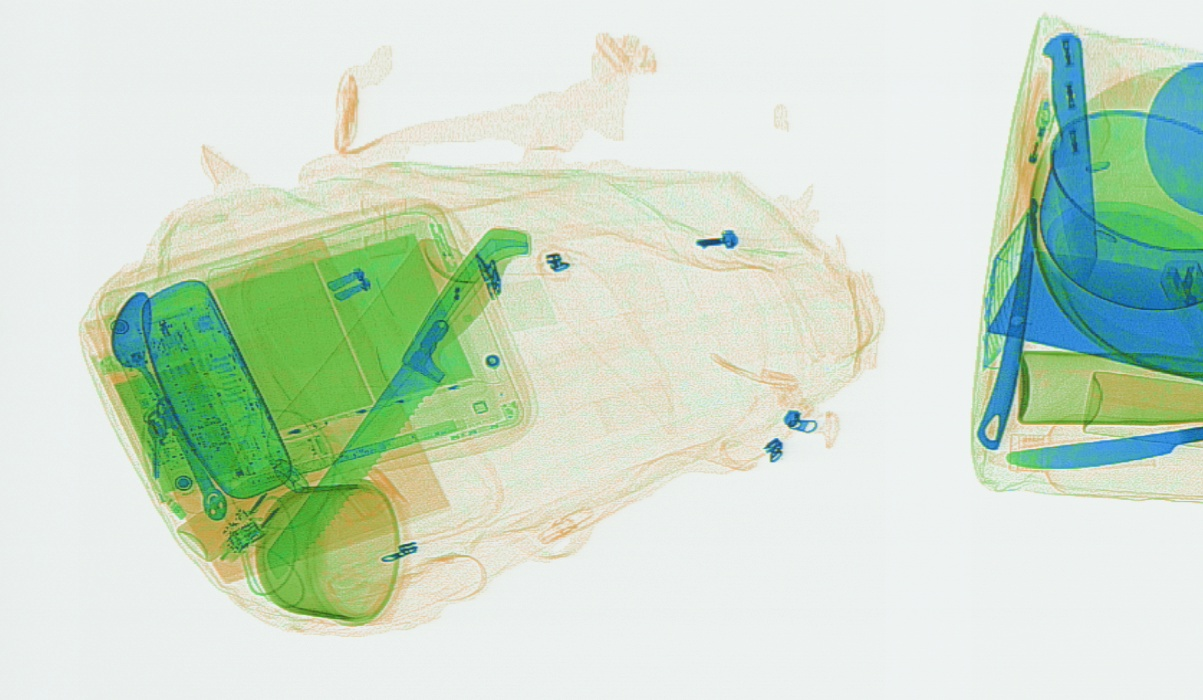knife: (268, 227, 530, 571), (979, 242, 1201, 369), (1038, 30, 1106, 272), (1007, 422, 1201, 469)
pressure: (260, 231, 469, 504)
